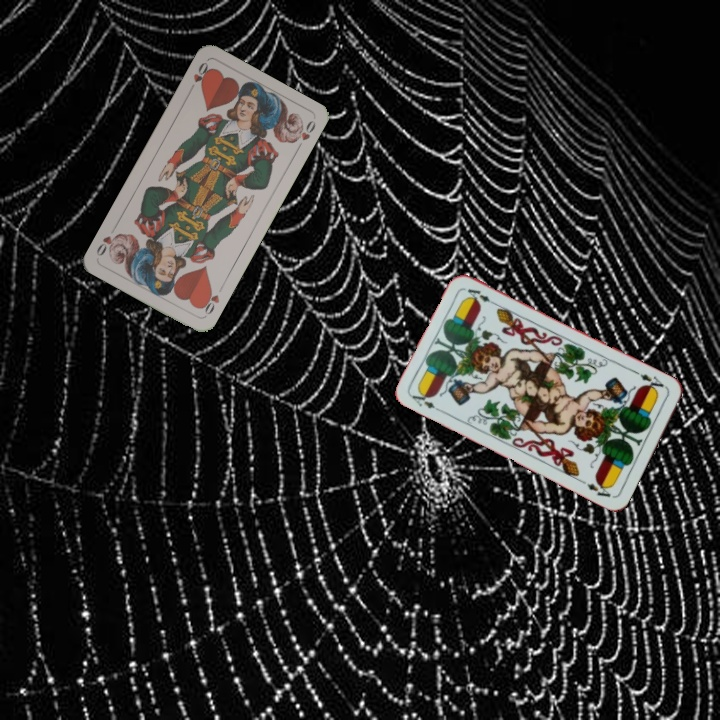EA: (631, 367, 669, 395), (408, 387, 445, 415)
HO: (197, 282, 226, 319), (185, 58, 214, 95)
